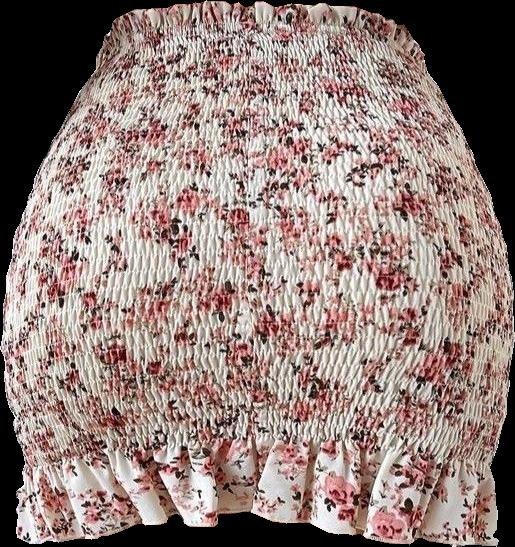Hemline: (13, 509, 500, 546)
Waistline: (101, 0, 420, 42)
